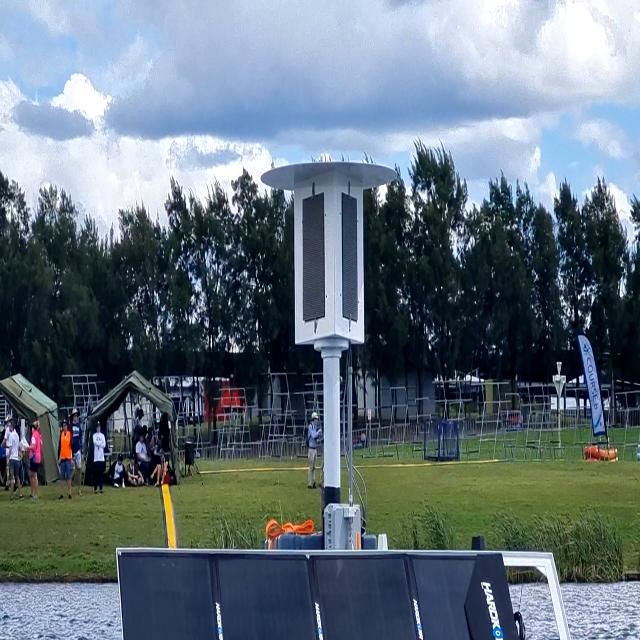led: (296, 185, 331, 328), (335, 181, 361, 332)
